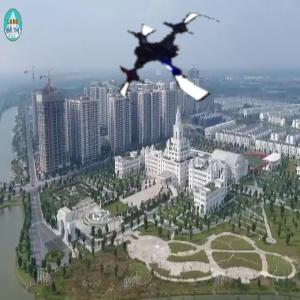drone: (111, 1, 234, 124)
